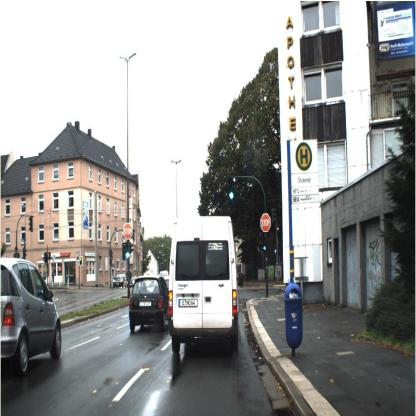other: (258, 211, 273, 234), (122, 219, 134, 241)
